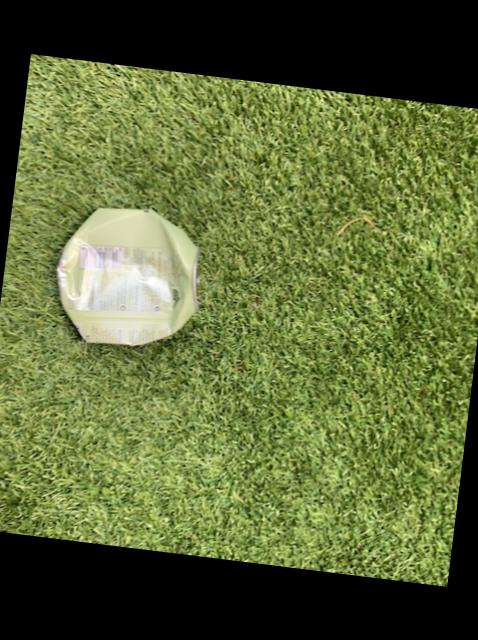metal: (58, 208, 199, 346)
